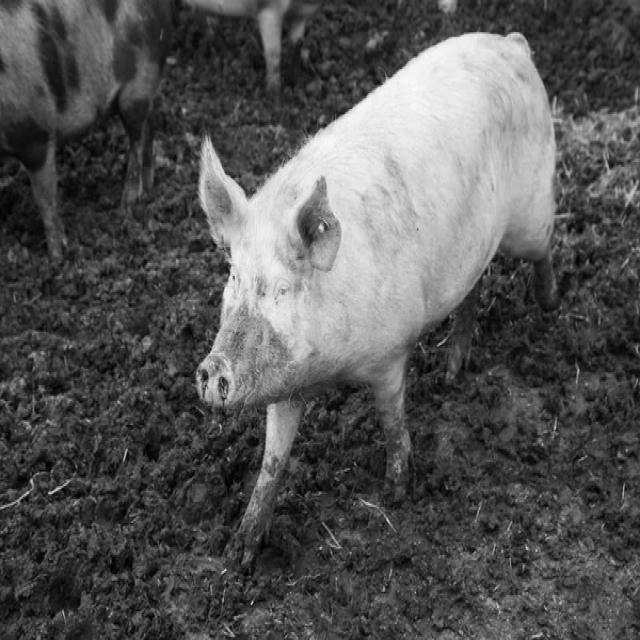Animal: (192, 26, 562, 562)
